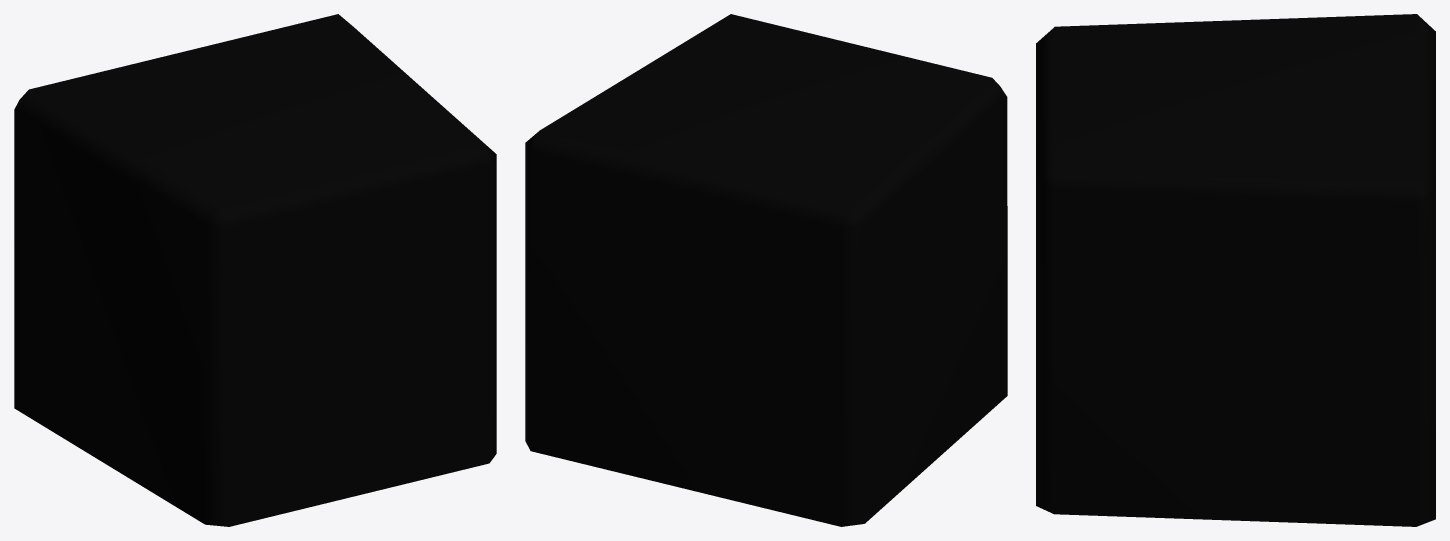
The model's file is Stool_Modular_Mesh.fbx.
3 views of the same model, side by side, from view 1: azimuth 30°, elevation 25°; view 2: azimuth 150°, elevation 25°; view 3: azimuth 270°, elevation 25° (orthographic). The views are drawn at different scales.
Parts seen in each view (by area): view 1: Seat_Modular; view 2: Seat_Modular; view 3: Seat_Modular.
Part boxes in pixels (box(x1,y1,x2,y2)): Seat_Modular: box(14, 14, 496, 526); Seat_Modular: box(525, 14, 1007, 526); Seat_Modular: box(1036, 14, 1435, 526).
Size of the model in its own units: 52.97 by 46.93 by 49.81.
